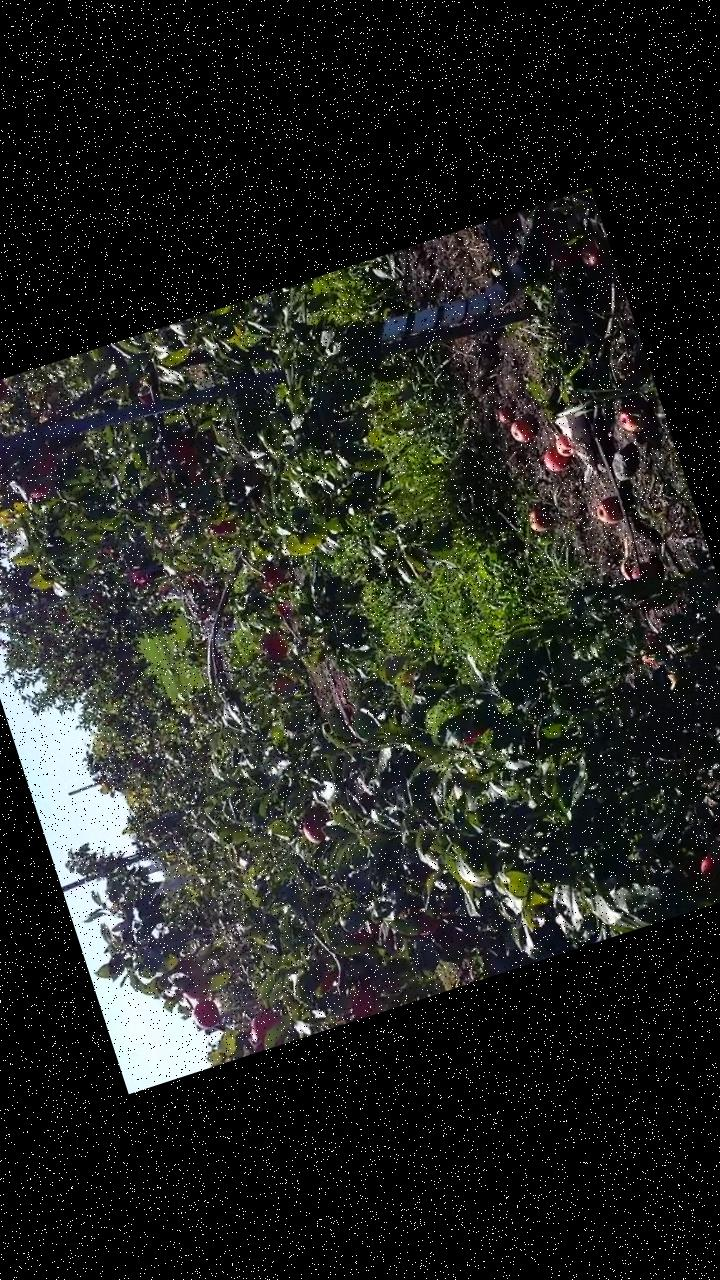Apple: (13, 445, 63, 500), (173, 954, 215, 1002), (243, 1006, 288, 1049), (691, 834, 719, 898), (342, 982, 380, 1019), (405, 898, 442, 936), (186, 994, 224, 1030), (254, 627, 290, 664), (253, 557, 288, 594), (168, 431, 198, 466), (344, 915, 380, 944), (179, 452, 209, 486), (316, 965, 347, 995), (268, 669, 298, 698), (300, 816, 326, 846), (209, 514, 236, 540), (274, 596, 293, 620), (0, 379, 8, 407)
